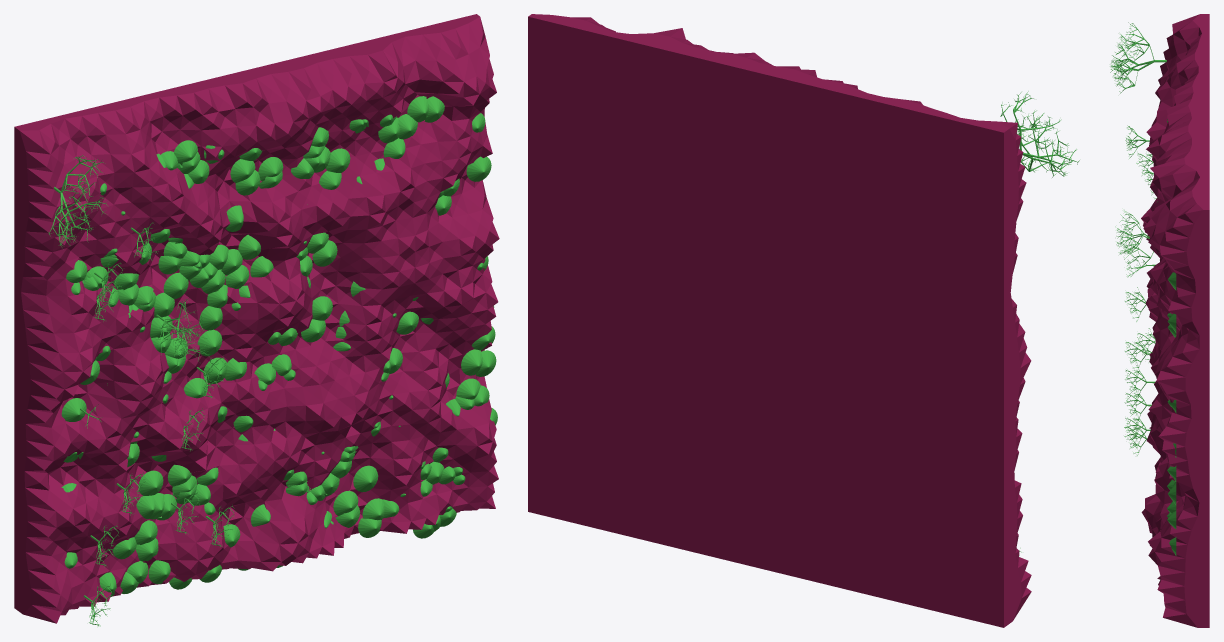
Rendered from tinker.obj.
3 views of the same model, side by side, from view 1: azimuth 30°, elevation 25°; view 2: azimuth 150°, elevation 25°; view 3: azimuth 270°, elevation 25° (orthographic). The views are drawn at different scales.
Parts seen in each view (by area): view 1: group_0_9444435, group_0_4634441; view 2: group_0_9444435, group_0_4634441; view 3: group_0_9444435, group_0_4634441.
Boxes of the visible parts, box(x1,y1,x2,y2) form: group_0_9444435: box(14, 14, 499, 623); group_0_4634441: box(48, 96, 497, 626); group_0_9444435: box(528, 14, 1031, 627); group_0_4634441: box(1000, 91, 1079, 555); group_0_9444435: box(1141, 14, 1209, 627); group_0_4634441: box(1110, 22, 1176, 555).
Bounding box in the file's own units: 278 × 271 × 57.4.
